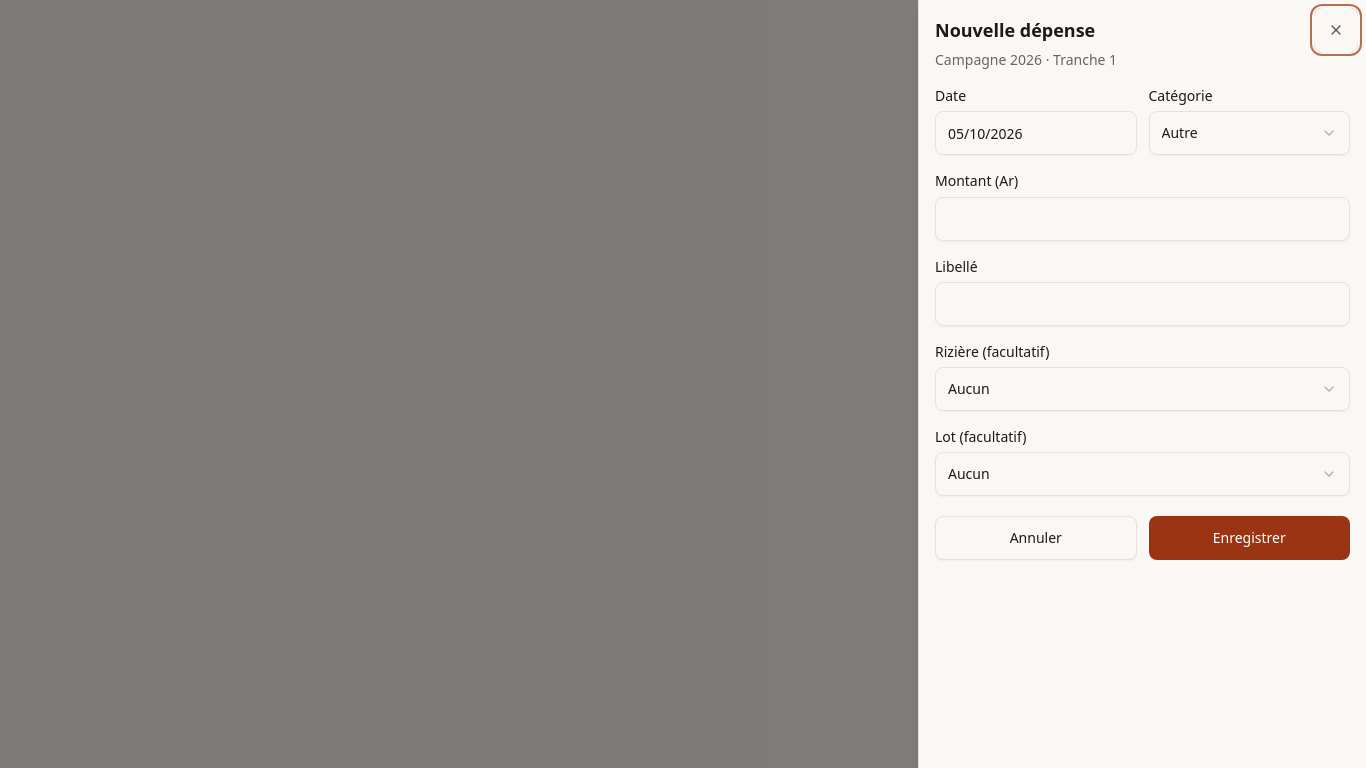
Scenario: NewExpensePage › requires an amount and a label
Click the button "Enregistrer": (1249, 538) top-left (1148, 516), bottom-right (1350, 560)
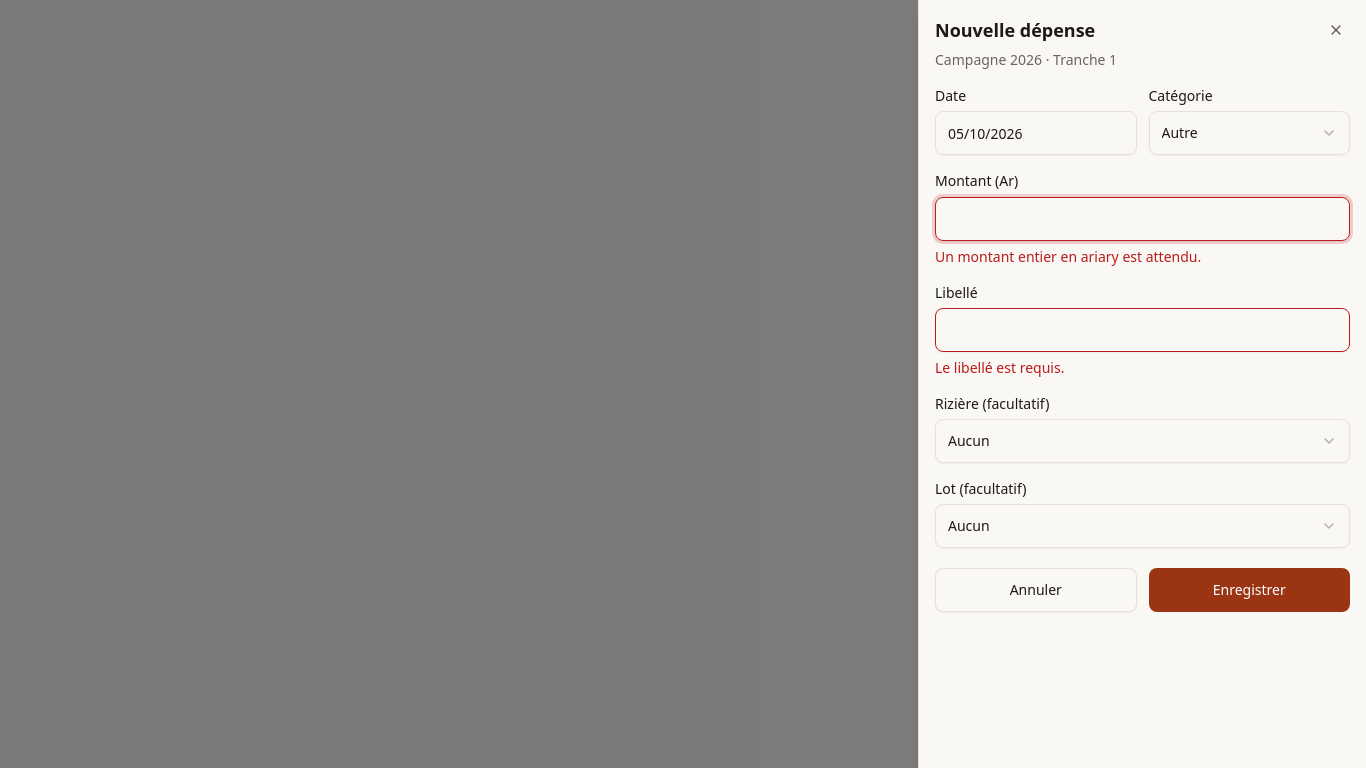
Expected: the messages read "Un montant entier en ariary est attendu.", "Le libellé est requis.", in this order, top-left (935, 246), bottom-right (1201, 266); top-left (935, 358), bottom-right (1064, 377)
